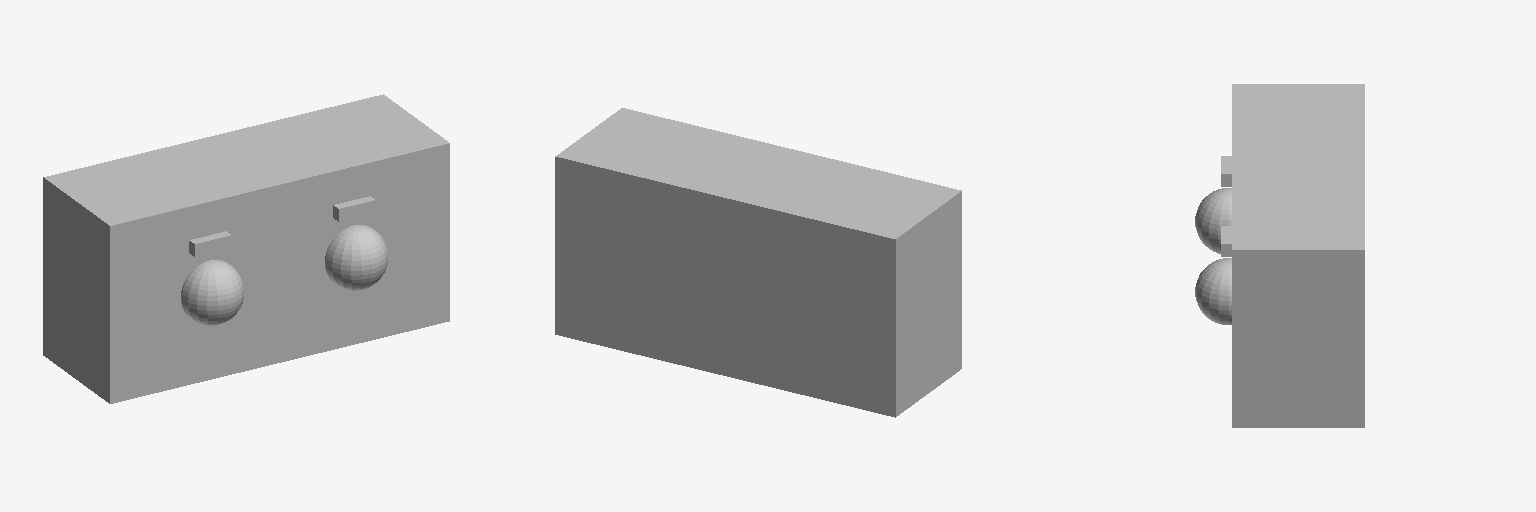
File: Head.obj
3 renders of one model, left to right at view 1: azimuth 30°, elevation 25°; view 2: azimuth 150°, elevation 25°; view 3: azimuth 270°, elevation 25°, orthographic.
Visible parts, largest first — view 1: pCube2, pasted__pSphere1 group, pSphere1, pCube3, pasted__pCube3 group1; view 2: pCube2; view 3: pCube2, pSphere1, pasted__pSphere1 group.
Boxes of the visible parts, <box> form: pCube2: <box>43,94,449,403</box>; pasted__pSphere1 group: <box>181,260,243,325</box>; pSphere1: <box>325,225,387,290</box>; pCube3: <box>189,231,231,256</box>; pasted__pCube3 group1: <box>333,196,375,221</box>; pCube2: <box>555,108,961,417</box>; pCube2: <box>1232,84,1364,427</box>; pSphere1: <box>1195,258,1231,324</box>; pasted__pSphere1 group: <box>1195,188,1231,253</box>.
Bounding box in the file's own units: 5.89 × 2.95 × 2.55.